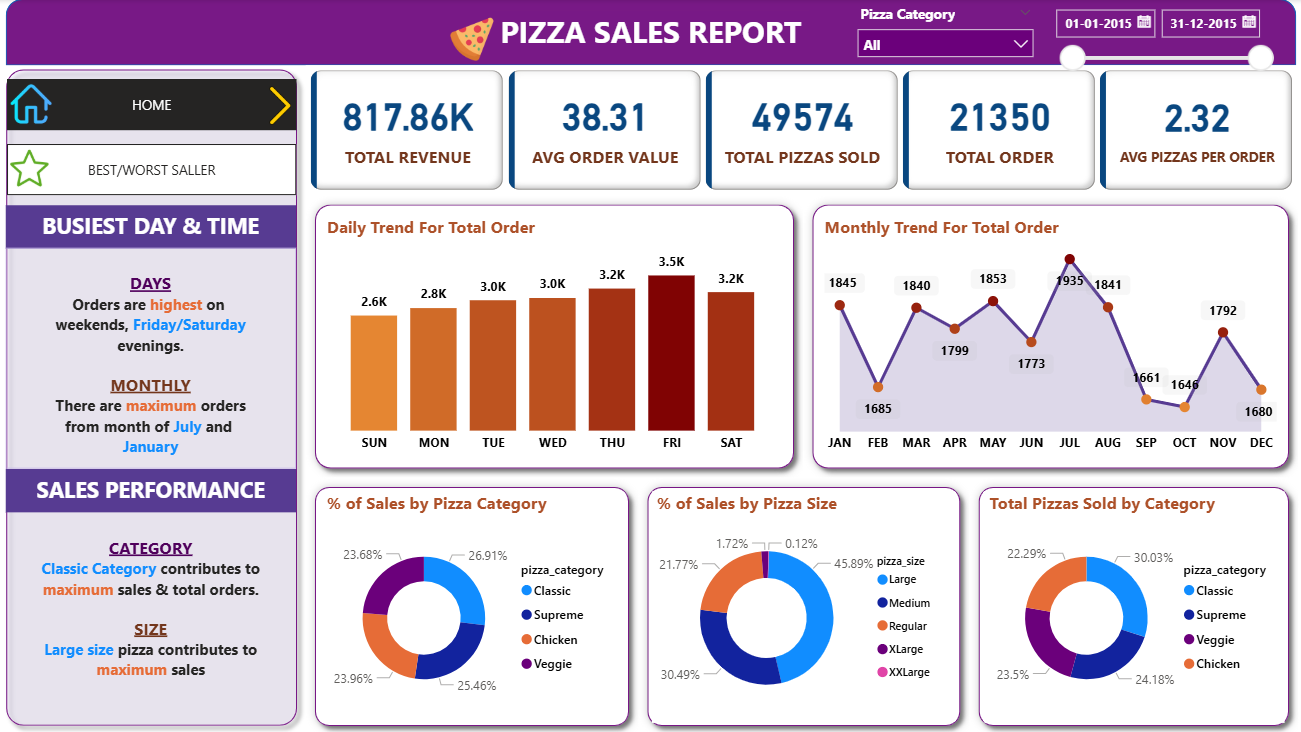

The dashboard page shown, as its layout file describes it:
{"tool":"powerbi","page":{"name":"HOME","canvas":[1280,720],"ordinal":0},"visuals":[{"type":"shape","box":[8.8,0,1262.5,65],"z":0},{"type":"cardVisual","fields":{"Data":["pizza_sales.TOTAL REVENUE","pizza_sales.AVG ORDER VALUE","pizza_sales.TOTAL PIZZAS SOLD","pizza_sales.TOTAL ORDER","pizza_sales.AVG PIZZAS PER ORDER"]},"box":[302,64.8,972.2,127.2],"z":1000},{"type":"textbox","title":"PIZZA SALES REPORT","box":[479.4,11,320.4,36.7],"z":2000},{"type":"image","box":[437.8,11,53.8,57.5],"z":3000},{"type":"shape","box":[302,192,486.7,276.4],"z":4000},{"type":"shape","box":[788.7,192,484.2,276.4],"z":5000},{"type":"columnChart","title":"Daily Trend For Total Order","fields":{"Y":["pizza_sales.TOTAL ORDER"],"Category":["pizza_sales.Order Day"]},"box":[317.9,211.6,452.4,240.9],"z":6000},{"type":"areaChart","title":"Monthly Trend For Total Order","fields":{"Y":["pizza_sales.TOTAL ORDER"],"Category":["pizza_sales.Order Month"]},"box":[804.6,211.6,452.4,240.9],"z":7000},{"type":"shape","box":[302,468.3,325.3,251.9],"z":8000},{"type":"shape","box":[627.3,468.3,324.1,251.9],"z":9000},{"type":"shape","box":[951.4,468.3,321.6,251.9],"z":10000},{"type":"donutChart","title":"% of Sales by Pizza Category","fields":{"Category":["pizza_sales.pizza_category"],"Y":["pizza_sales.TOTAL REVENUE"]},"box":[317.5,481.2,293.8,226.2],"z":11000},{"type":"donutChart","title":"% of Sales by Pizza Size","fields":{"Y":["pizza_sales.TOTAL REVENUE"],"Category":["pizza_sales.pizza_size"]},"box":[641.2,481.2,293.8,226.2],"z":12000},{"type":"donutChart","title":"Total Pizzas Sold by Category","fields":{"Category":["pizza_sales.pizza_category"],"Y":["pizza_sales.TOTAL PIZZAS SOLD"]},"box":[966.2,481.2,293.8,226.2],"z":13000},{"type":"shape","box":[0,60,302.5,660],"z":14000},{"type":"textbox","box":[8.8,201.2,283.8,42.5],"z":15000},{"type":"textbox","box":[8.8,243.8,283.8,216.2],"z":16000},{"type":"textbox","box":[8.8,460,283.8,42.5],"z":17000},{"type":"textbox","box":[8.8,502.5,283.8,205],"z":18000},{"type":"slicer","fields":{"Values":["pizza_sales.pizza_category"]},"box":[831.2,0,192.5,70],"z":19000},{"type":"slicer","fields":{"Values":["pizza_sales.order_date"]},"box":[1023.5,0,233.6,79.5],"z":20000},{"type":"pageNavigator","box":[9.8,78.3,283.7,50.1],"z":21000},{"type":"pageNavigator","box":[9.8,141.8,283.7,50.1],"z":22000},{"type":"image","box":[251.9,80.7,50.1,47.7],"z":23000},{"type":"image","box":[8.6,77,50.1,51.4],"z":24000},{"type":"image","box":[4.9,141.8,53.8,47.7],"z":25000}]}

Visuals, with their boxes in screenshot pixels (x1, y1, x2, y2), scaled from the page's 1280x720 canvas onto the 1301x732 screenshot:
shape: <region>9, 0, 1292, 66</region>
cardVisual - pizza_sales.TOTAL REVENUE x pizza_sales.AVG ORDER VALUE: <region>307, 66, 1295, 195</region>
"PIZZA SALES REPORT" textbox: <region>487, 11, 813, 48</region>
image: <region>445, 11, 500, 70</region>
shape: <region>307, 195, 802, 476</region>
shape: <region>802, 195, 1294, 476</region>
"Daily Trend For Total Order" columnChart: <region>323, 215, 783, 460</region>
"Monthly Trend For Total Order" areaChart: <region>818, 215, 1278, 460</region>
shape: <region>307, 476, 638, 731</region>
shape: <region>638, 476, 967, 731</region>
shape: <region>967, 476, 1294, 731</region>
"% of Sales by Pizza Category" donutChart: <region>323, 489, 621, 719</region>
"% of Sales by Pizza Size" donutChart: <region>652, 489, 950, 719</region>
"Total Pizzas Sold by Category" donutChart: <region>982, 489, 1281, 719</region>
shape: <region>0, 61, 307, 731</region>
textbox: <region>9, 205, 297, 248</region>
textbox: <region>9, 248, 297, 468</region>
textbox: <region>9, 468, 297, 511</region>
textbox: <region>9, 511, 297, 719</region>
slicer - pizza_sales.pizza_category: <region>845, 0, 1040, 71</region>
slicer - pizza_sales.order_date: <region>1040, 0, 1278, 81</region>
pageNavigator: <region>10, 80, 298, 131</region>
pageNavigator: <region>10, 144, 298, 195</region>
image: <region>256, 82, 307, 131</region>
image: <region>9, 78, 60, 131</region>
image: <region>5, 144, 60, 193</region>
